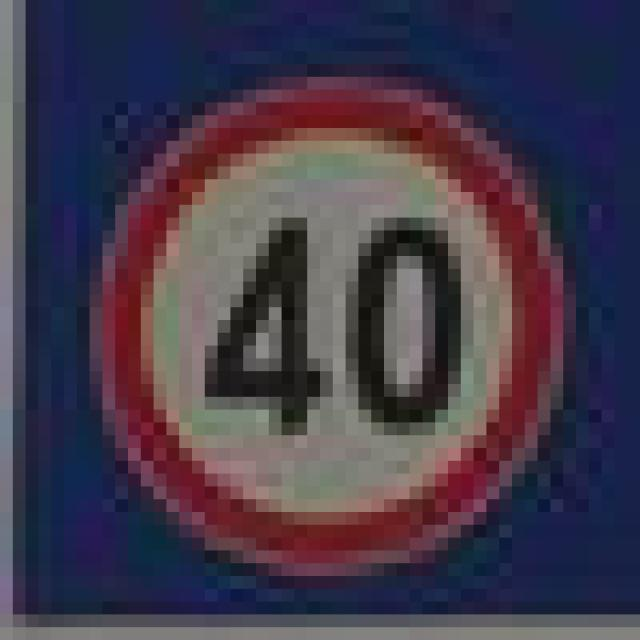falling_rocks: (77, 52, 550, 550)
